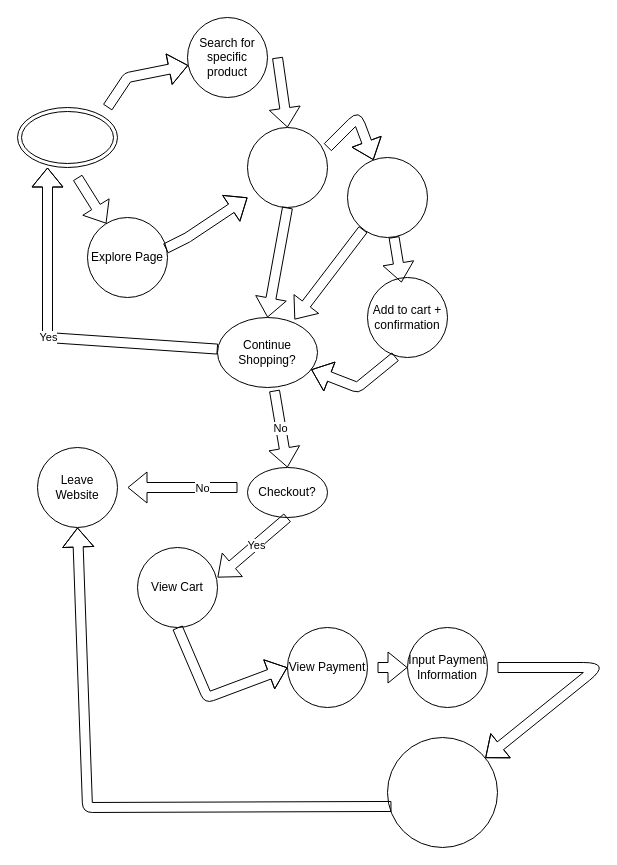
Image size: 617x865. Some labels were removed from this diagram. Here are the shapes that lost their labels. From the top down, the centre of each, then its label:
At point (67, 137): "Homepage".
At point (287, 167): "Looking through available products".
At point (387, 197): "Look @ specific Product".
At point (442, 792): "Completed purchase with order #, and email confimation".
